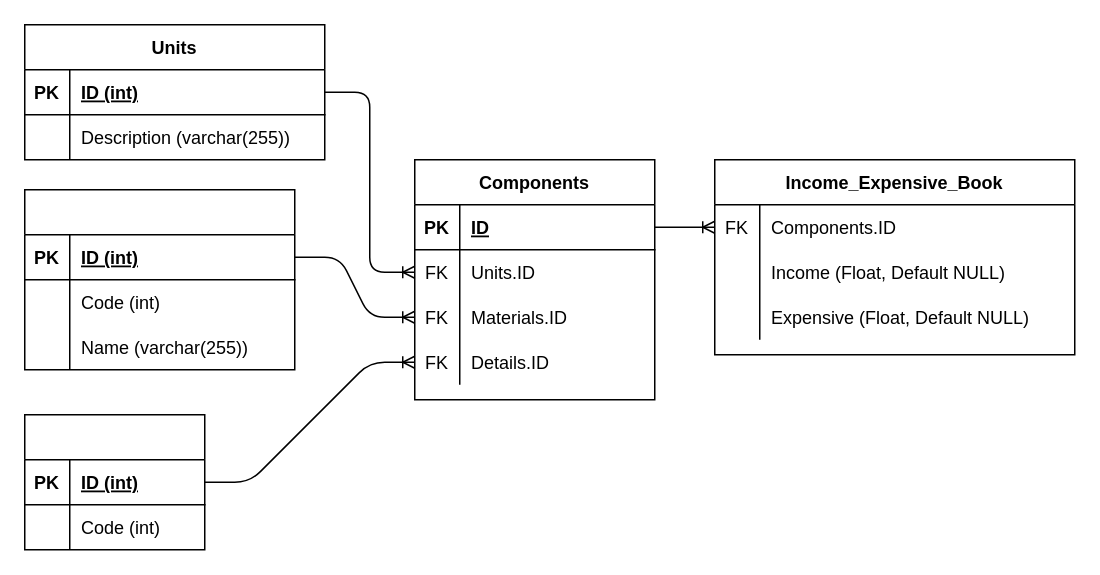
Some shapes in this 1100 by 575 pixel diagram are drawn without their labels. Each missing label, with the box of its shape:
Details: (23, 413, 205, 550)
Materials: (23, 188, 295, 370)
